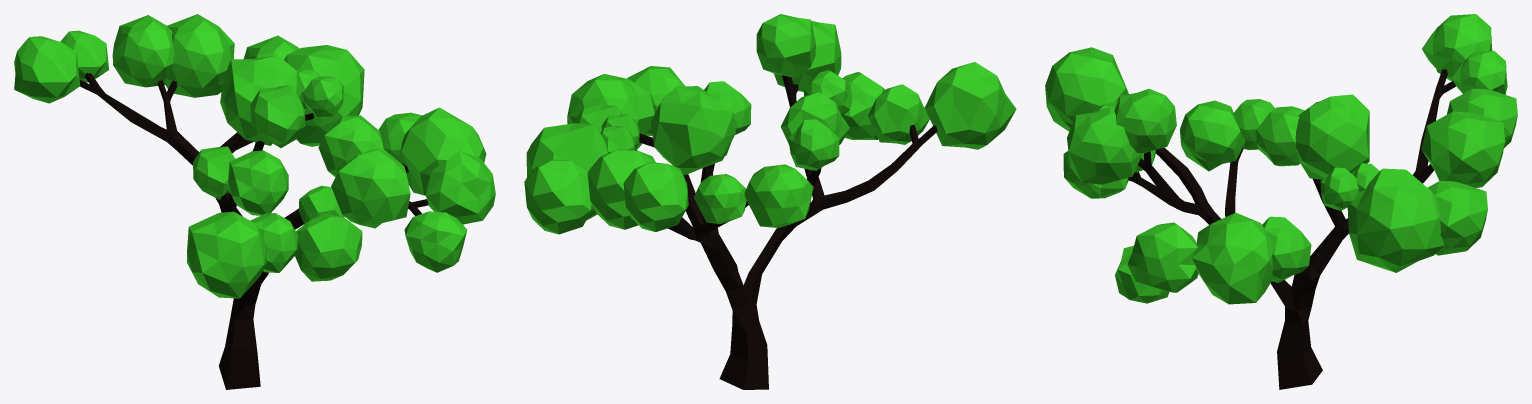
File: tree5obj.obj
The picture shows the model from 3 angles, left to right: view 1: azimuth 30°, elevation 25°; view 2: azimuth 150°, elevation 25°; view 3: azimuth 270°, elevation 25°; orthographic projection.
Visible parts, largest first — view 1: Cube, Icosphere.017, Icosphere.013, Icosphere.003, Icosphere.009, Icosphere.010, Icosphere.021, Icosphere.002, Icosphere.005, Icosphere.014, Icosphere, Icosphere.018 (+10 smaller); view 2: Cube, Icosphere.017, Icosphere.021, Icosphere.004, Icosphere.002, Icosphere, Icosphere.012, Icosphere.003, Icosphere.005, Icosphere.009, Icosphere.016, Icosphere.001 (+10 smaller); view 3: Cube, Icosphere.005, Icosphere.009, Icosphere.021, Icosphere.003, Icosphere.017, Icosphere.013, Icosphere.010, Icosphere.018, Icosphere.004, Icosphere.012, Icosphere (+9 smaller).
Boxes of the visible parts, left/top/right/bottom form: Cube: left=79, top=73, right=428, bottom=389; Icosphere.017: left=187, top=211, right=266, bottom=298; Icosphere.013: left=331, top=149, right=410, bottom=228; Icosphere.003: left=164, top=14, right=234, bottom=97; Icosphere.009: left=398, top=107, right=486, bottom=195; Icosphere.010: left=426, top=150, right=495, bottom=224; Icosphere.021: left=220, top=55, right=302, bottom=145; Icosphere.002: left=112, top=15, right=174, bottom=87; Icosphere.005: left=284, top=45, right=364, bottom=146; Icosphere.014: left=294, top=214, right=362, bottom=281; Icosphere: left=14, top=36, right=80, bottom=103; Icosphere.018: left=228, top=150, right=288, bottom=215; Cube: left=635, top=75, right=937, bottom=389; Icosphere.017: left=924, top=62, right=1016, bottom=149; Icosphere.021: left=651, top=86, right=735, bottom=175; Icosphere.004: left=524, top=159, right=593, bottom=234; Icosphere.002: left=623, top=162, right=688, bottom=231; Icosphere: left=744, top=164, right=813, bottom=227; Icosphere.012: left=756, top=14, right=815, bottom=77; Icosphere.003: left=587, top=149, right=655, bottom=229; Icosphere.005: left=526, top=123, right=608, bottom=220; Icosphere.009: left=567, top=74, right=654, bottom=149; Icosphere.016: left=868, top=84, right=929, bottom=144; Icosphere.001: left=694, top=174, right=746, bottom=223; Cube: left=1128, top=69, right=1456, bottom=389; Icosphere.005: left=1347, top=168, right=1444, bottom=272; Icosphere.009: left=1192, top=212, right=1273, bottom=304; Icosphere.021: left=1295, top=94, right=1369, bottom=179; Icosphere.003: left=1421, top=111, right=1505, bottom=187; Icosphere.017: left=1045, top=47, right=1128, bottom=131; Icosphere.013: left=1067, top=107, right=1142, bottom=185; Icosphere.010: left=1127, top=222, right=1198, bottom=292; Icosphere.018: left=1180, top=100, right=1245, bottom=171; Icosphere.004: left=1427, top=181, right=1487, bottom=255; Icosphere.012: left=1114, top=88, right=1176, bottom=153; Icosphere: left=1422, top=14, right=1492, bottom=80.
Size of the model in its own units: 12.43 by 10.08 by 13.87.
